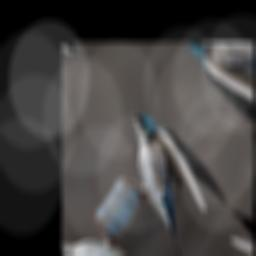Swallow: (94, 95, 235, 256)
